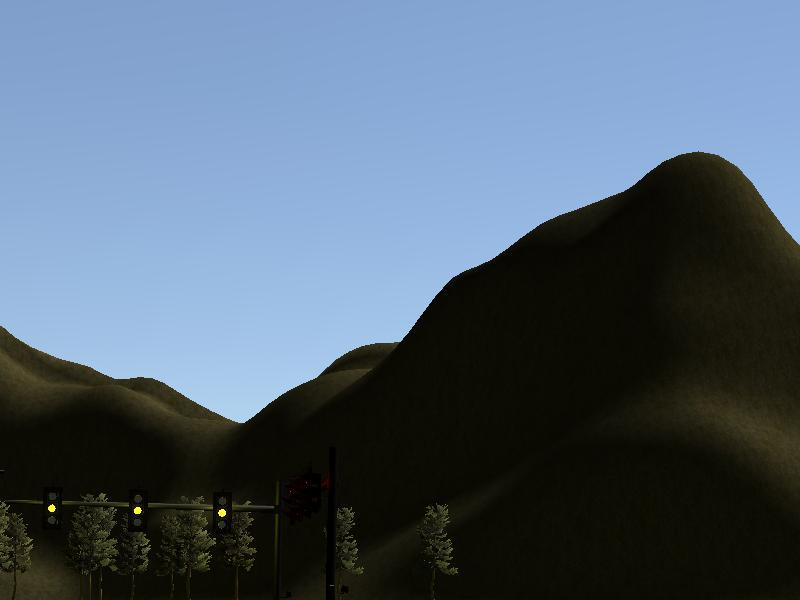Yellow: (212, 492, 233, 534), (129, 489, 147, 532), (44, 487, 62, 529)
